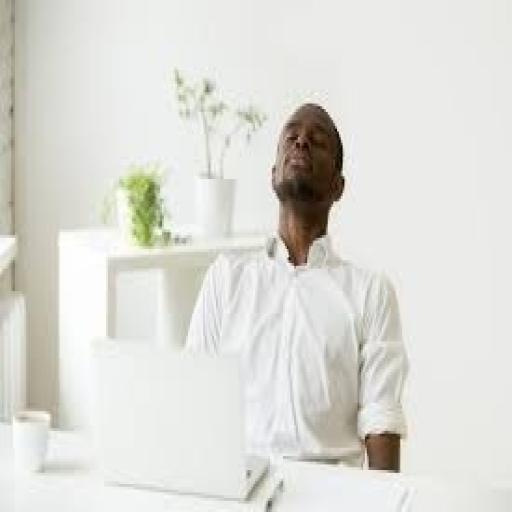sitting: (180, 98, 412, 473)
